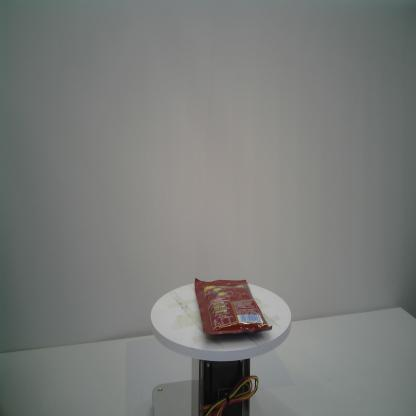Candy: (194, 278, 273, 336)
